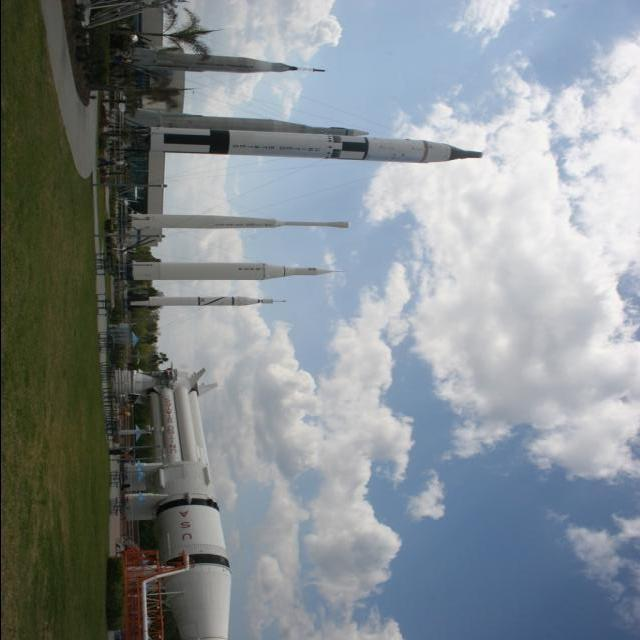missile: (137, 362, 234, 640), (124, 104, 478, 169), (146, 35, 330, 84), (125, 203, 351, 234), (125, 253, 334, 286), (125, 292, 286, 312)
